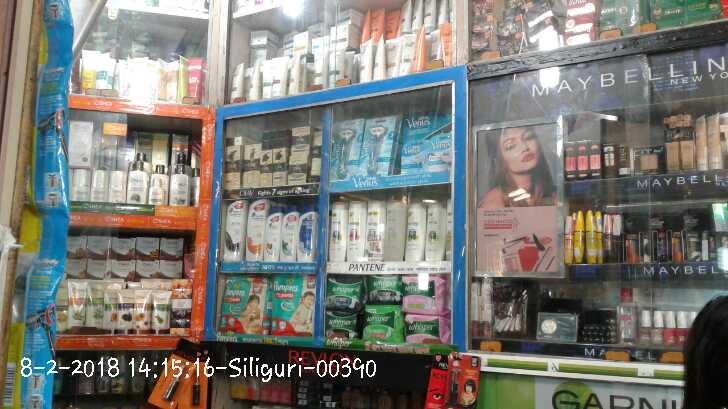gillete: (2, 212, 70, 409), (23, 26, 70, 206)
venus: (363, 111, 403, 176), (333, 118, 363, 176), (403, 111, 426, 171), (429, 135, 453, 170)
